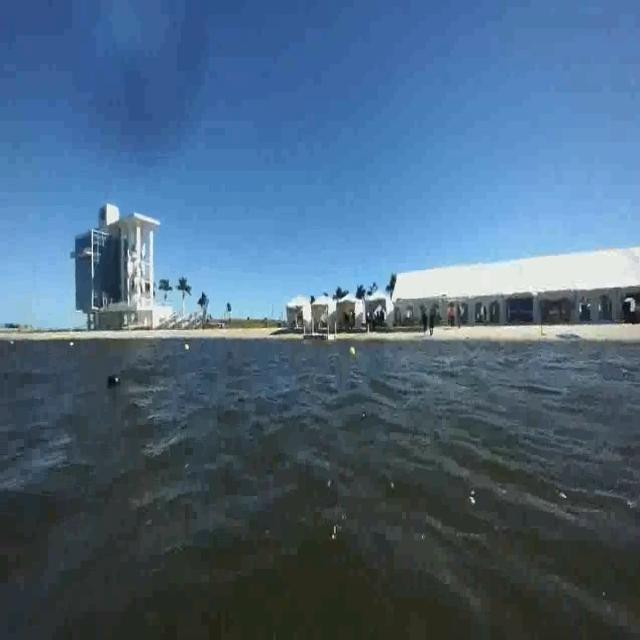black-buoy: (106, 371, 123, 393)
yellow-buoy: (349, 345, 358, 359)
